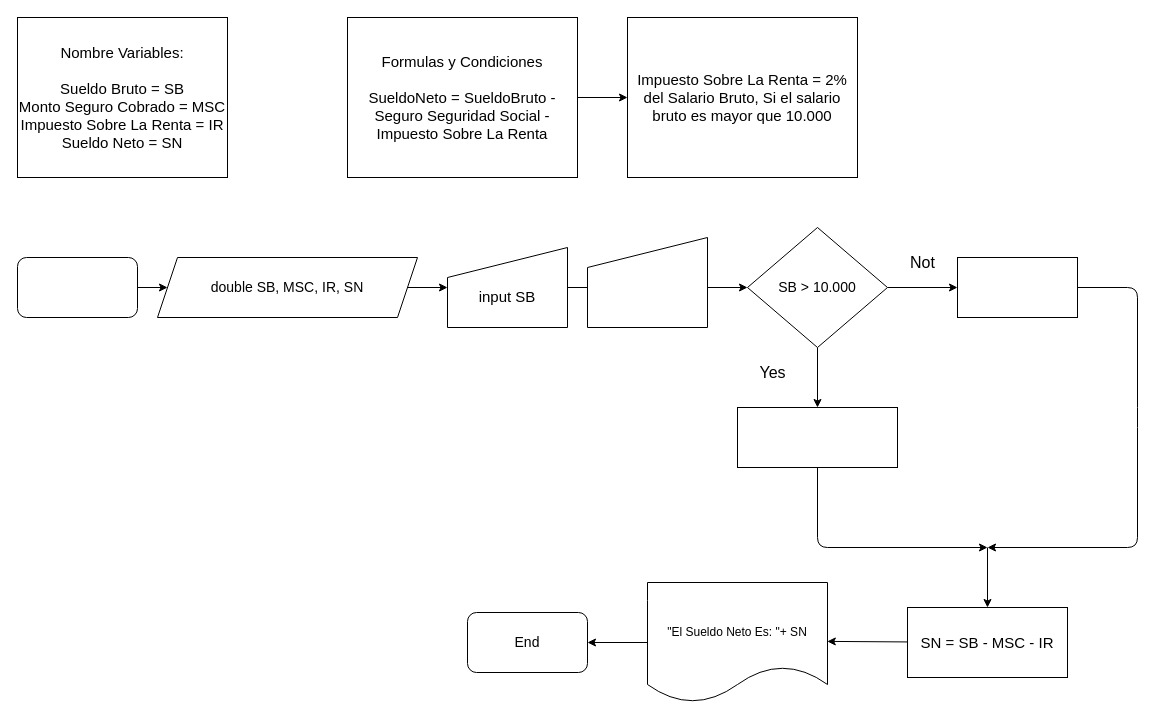
The diagram is 1163 pixels wide and 720 high, and some of its shapes have lost their labels. The box of each missing label's shape, as (x1, y1, x2, y2) in pixels:
input MSC: (586, 236, 708, 328)
IR = (SB * 2) / 100;: (736, 406, 898, 468)
IR = 0;: (956, 256, 1078, 318)
Start: (16, 256, 138, 318)
